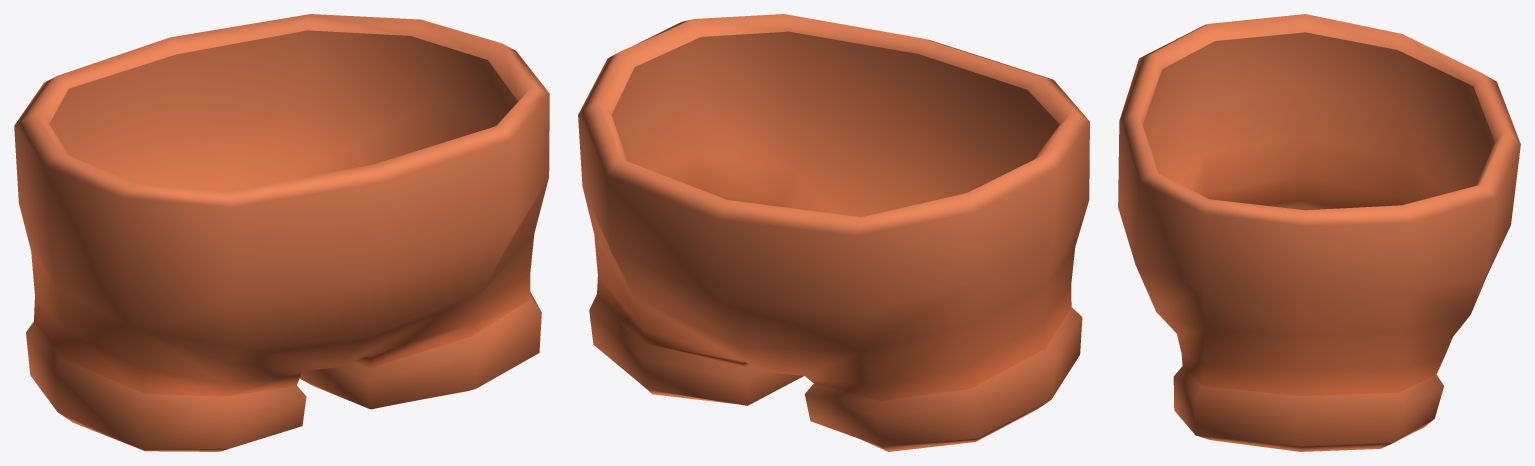
The model's file is Bottom_1.fbx.
3 renders of one model, left to right at view 1: azimuth 30°, elevation 25°; view 2: azimuth 150°, elevation 25°; view 3: azimuth 270°, elevation 25°, orthographic. The views are drawn at different scales.
Parts seen in each view (by area): view 1: Bottom_1; view 2: Bottom_1; view 3: Bottom_1.
Part boxes in pixels (left/top/right/bottom): Bottom_1: left=14, top=14, right=549, bottom=451; Bottom_1: left=578, top=14, right=1089, bottom=451; Bottom_1: left=1118, top=14, right=1520, bottom=451.
Size of the model in its own units: 38.42 by 22.89 by 31.34.
